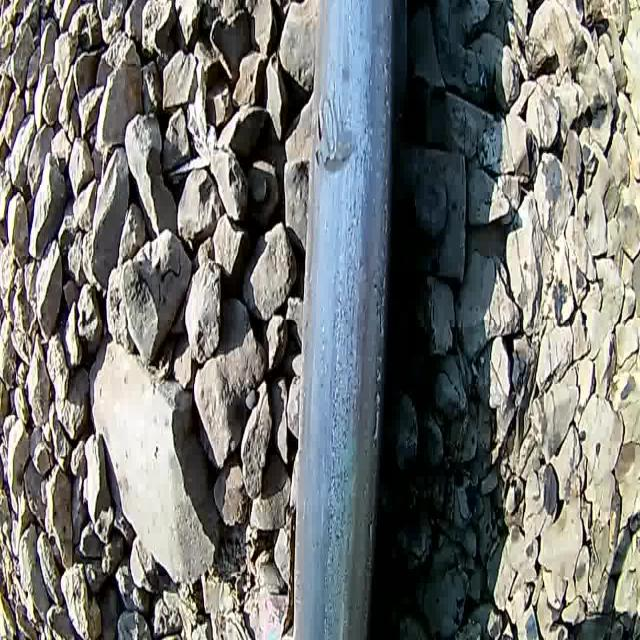Cracks: (306, 91, 348, 172)
Squats: (322, 130, 363, 182)
